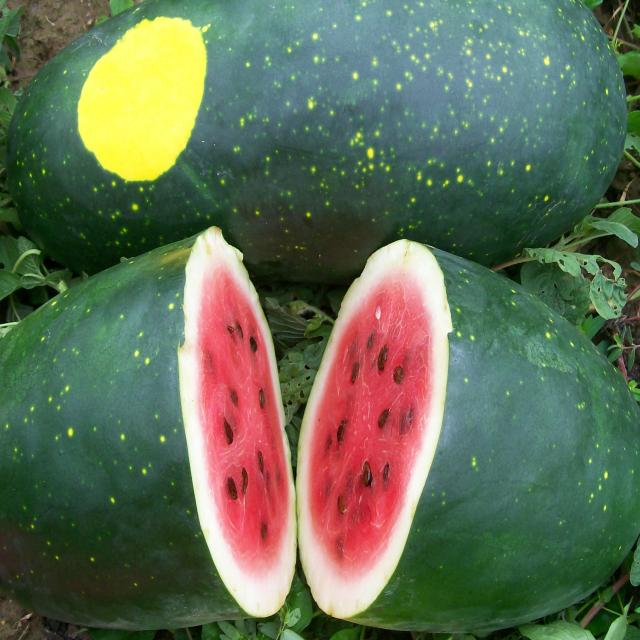Watermelon: (296, 240, 640, 631), (0, 227, 296, 630)
